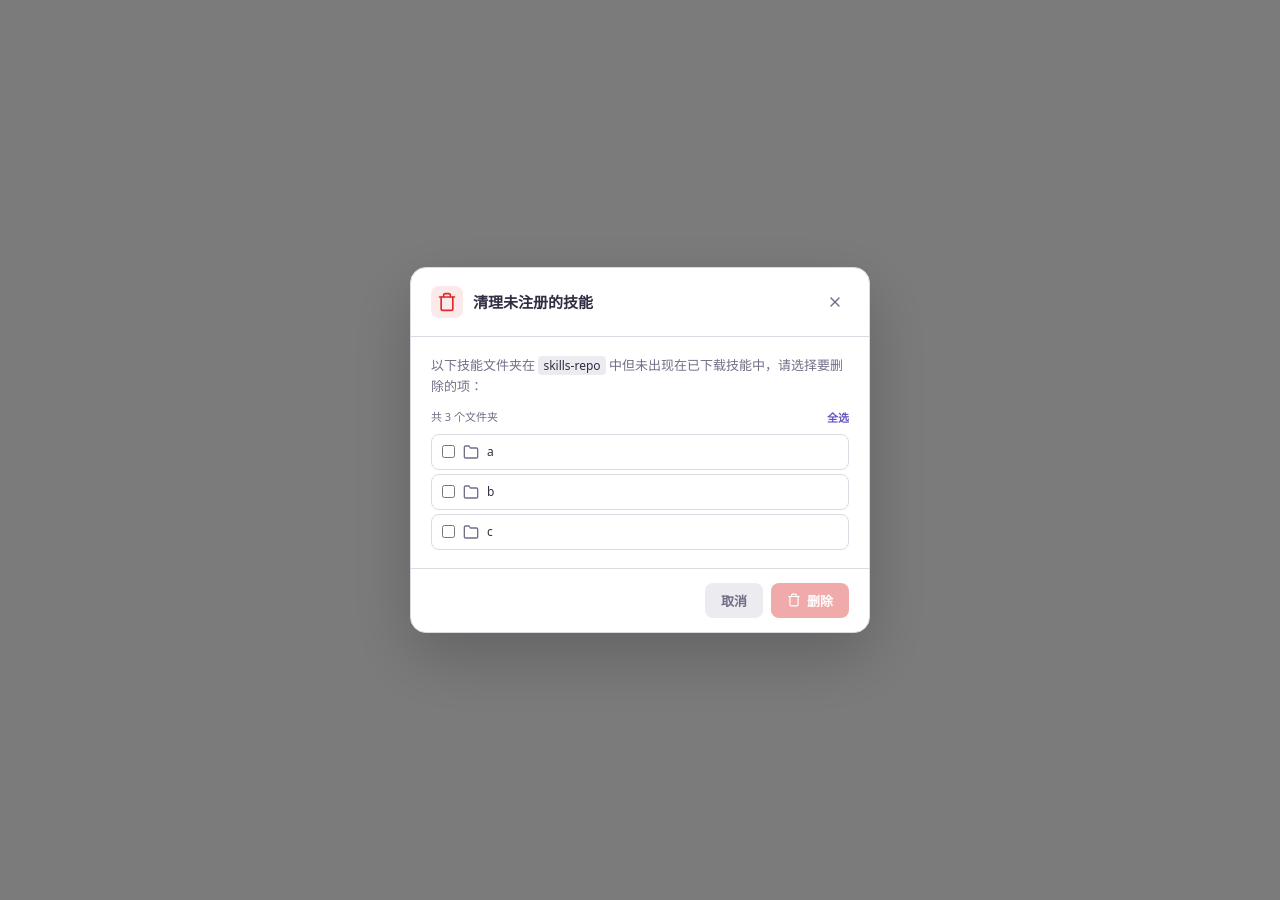
Scenario: CleanupSelectModal › delete button count shows selected number
What coordinates should you click on to do the following:
click the checkbox with class "cleanup-checkbox" showing "a"
I would click on:
 (448, 452)
Its box is [442, 445, 455, 458].
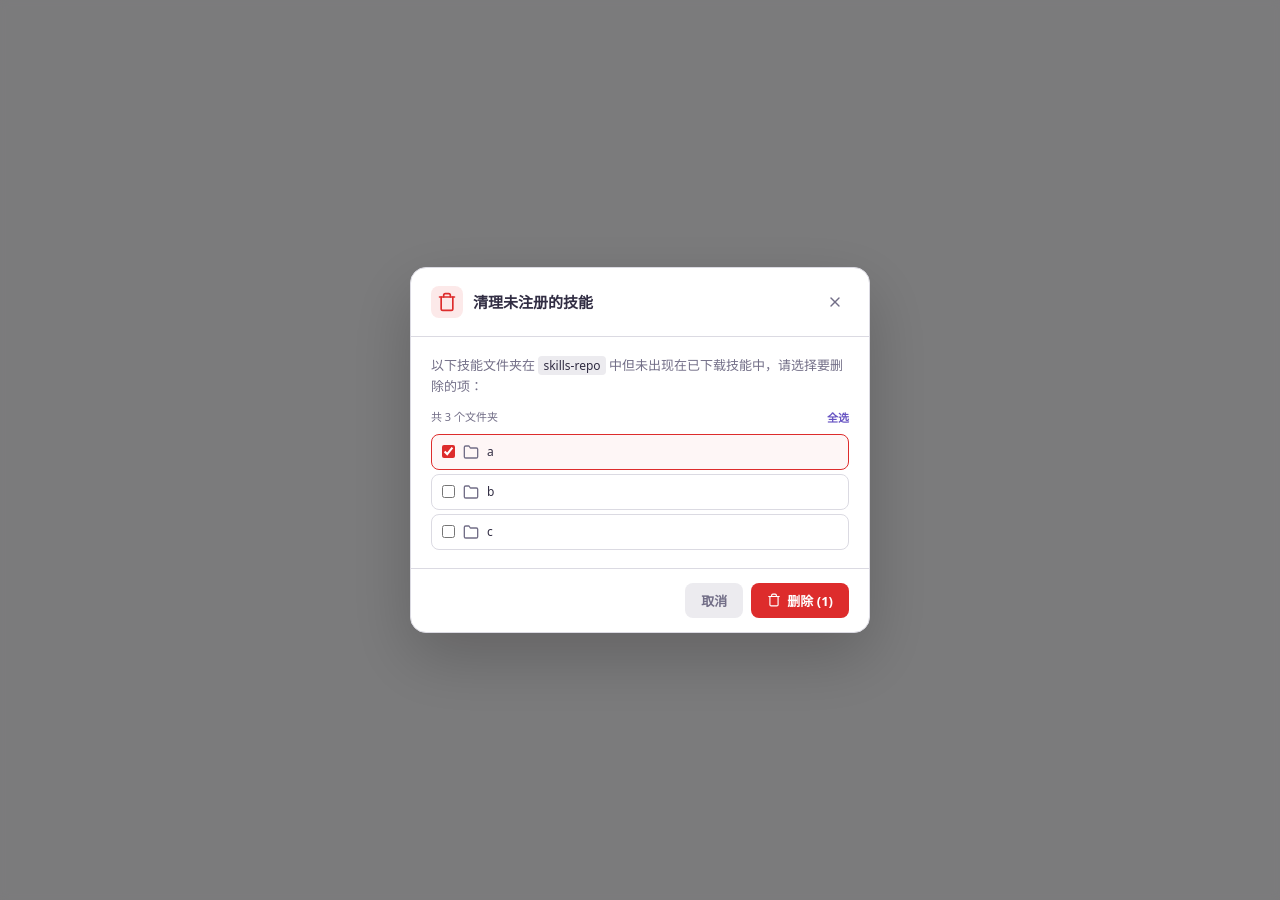
What coordinates should you click on to do the following:
click the checkbox with class "cleanup-checkbox" showing "b"
I would click on:
 (448, 492)
Its box is [442, 485, 455, 498].
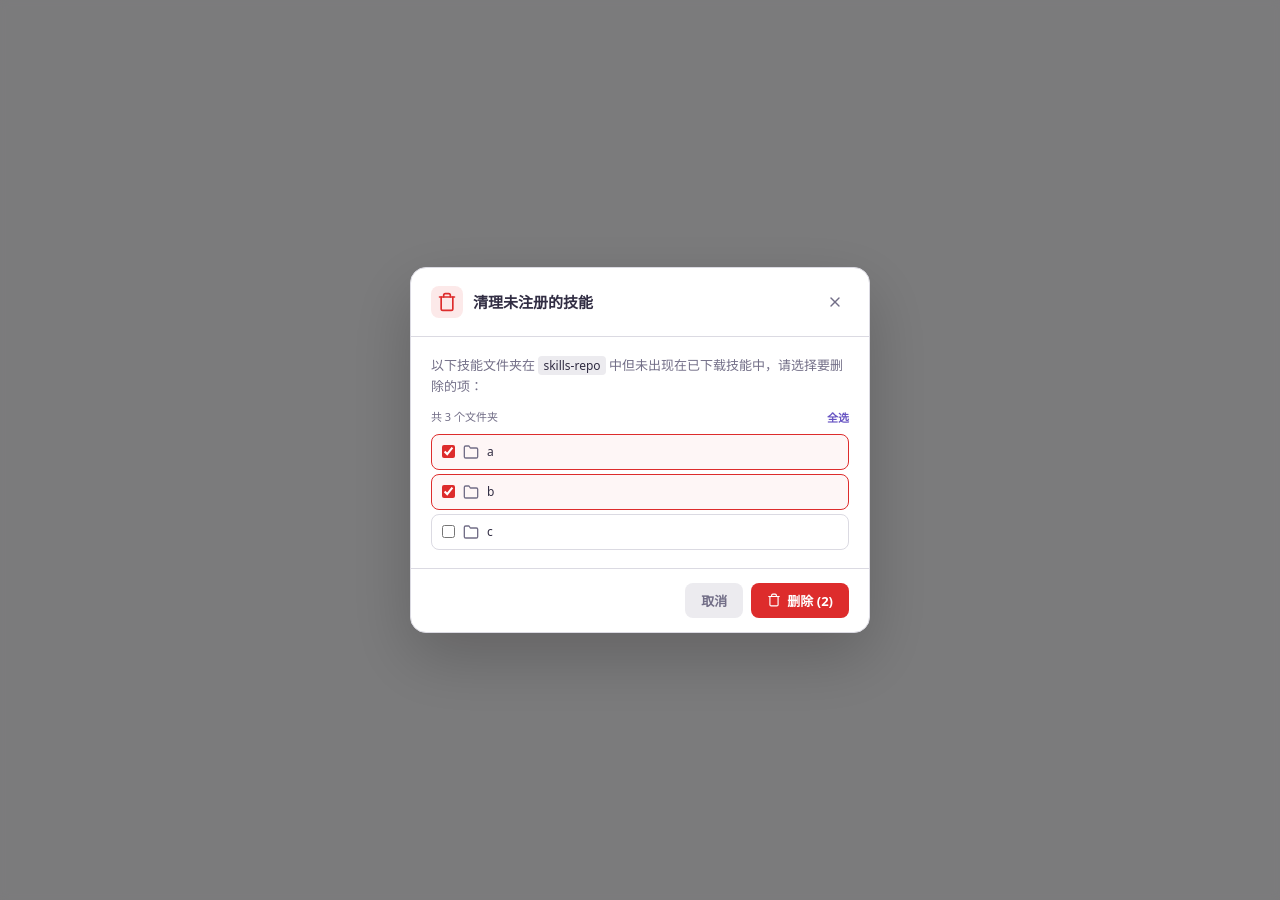
Result: the button with class "delete" shows "2" at [751, 582, 849, 618]
